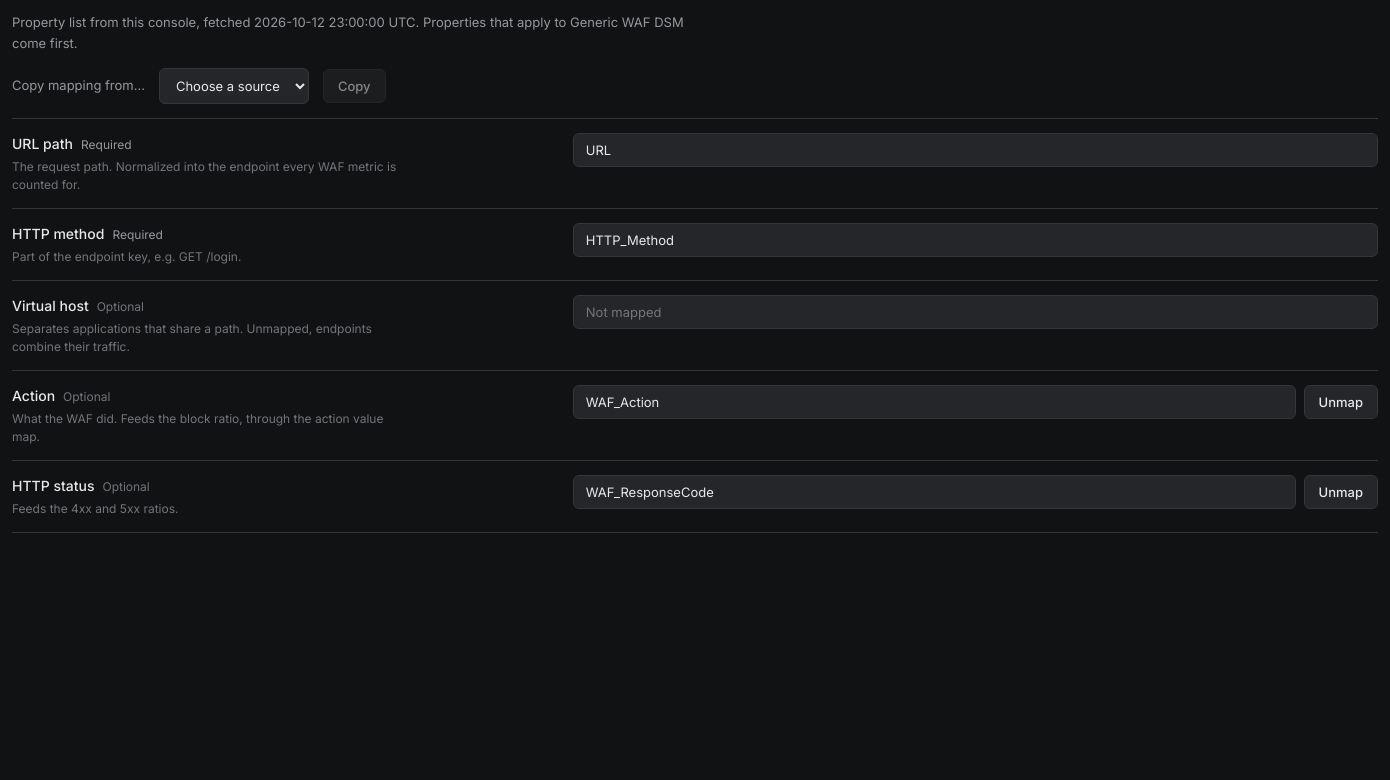
Test: FieldMappingForm › reports a failed copy as an alert
This screenshot has width=1390, height=780.
Select "WAF b" in the dropdown labelled "Copy mapping from…" at (234, 86), box [159,68,309,104]
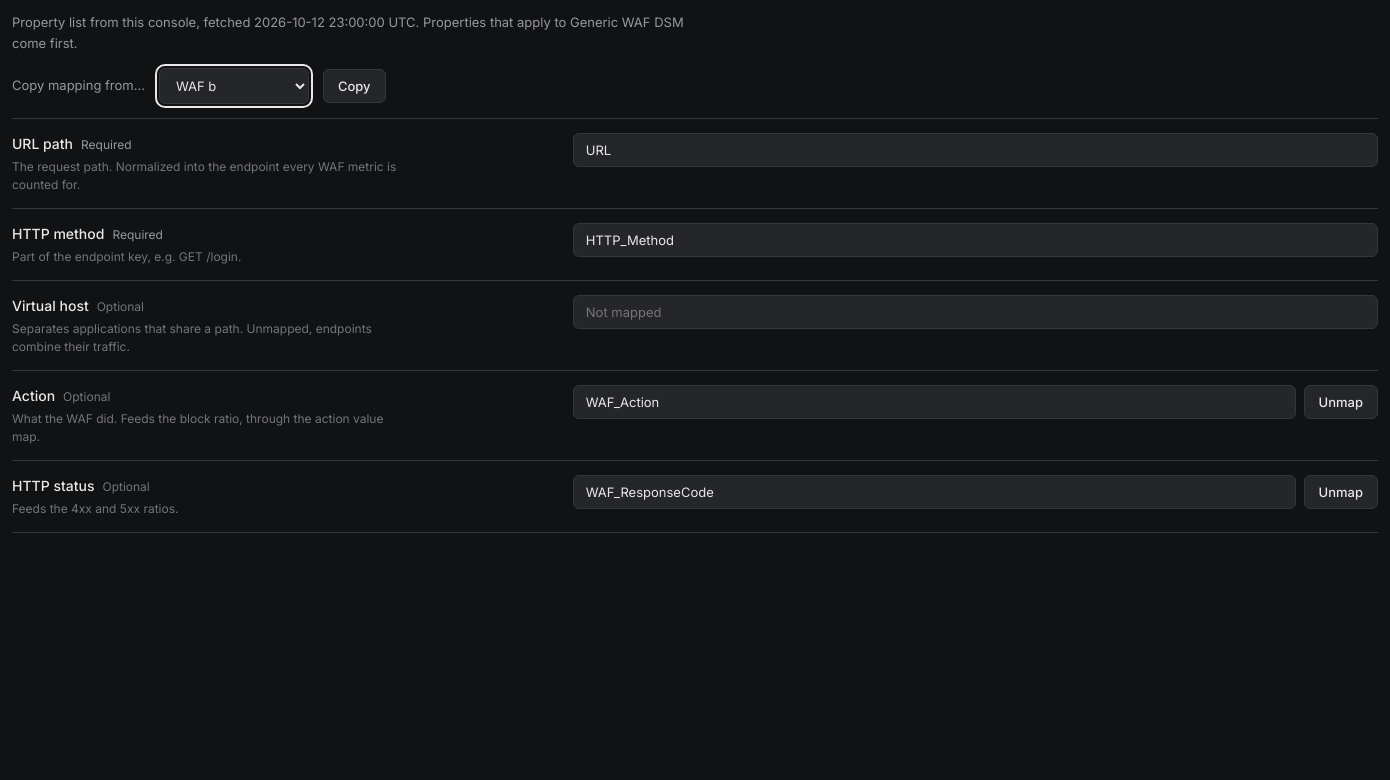
Click the button "Copy" at (354, 86), box [323,69,386,103]
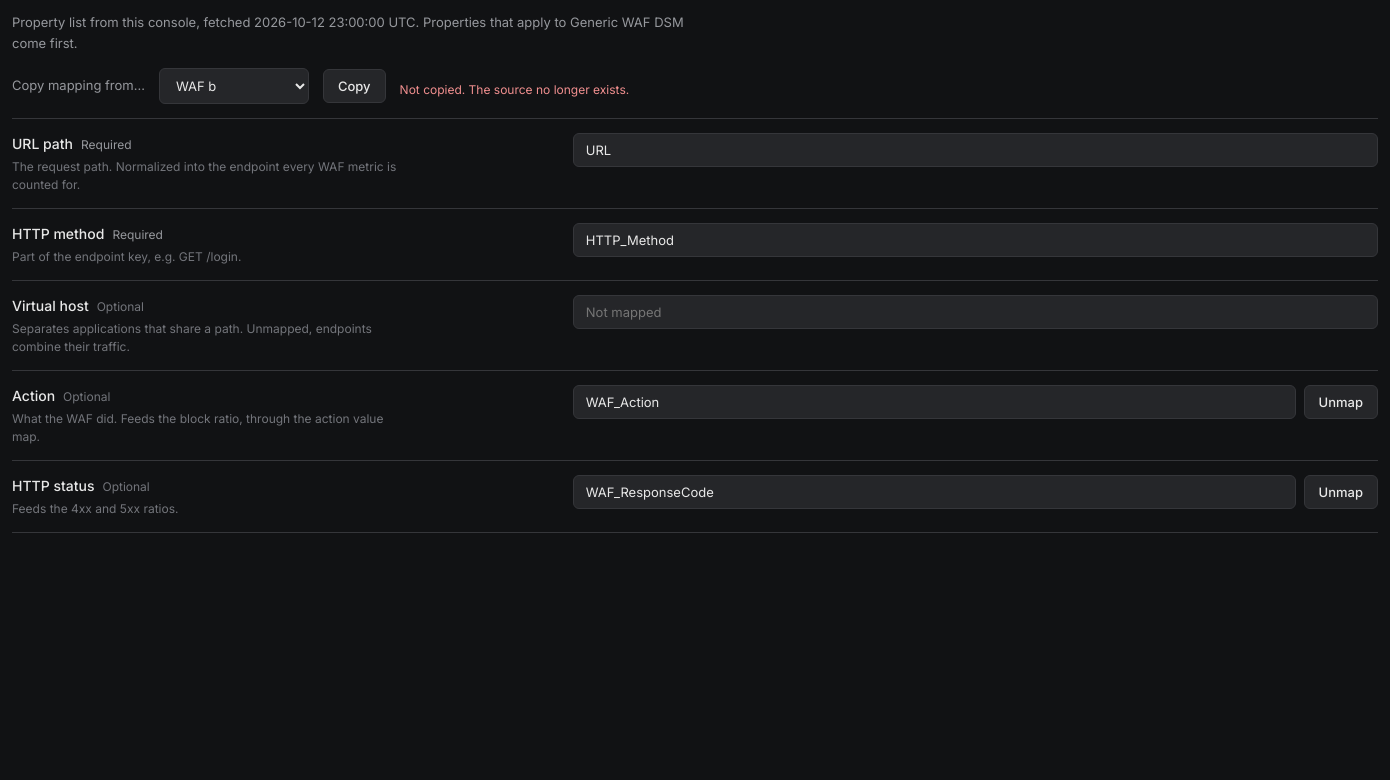
Now the message "Not copied. The source no longer exists." is shown, box [400,81,629,99]
